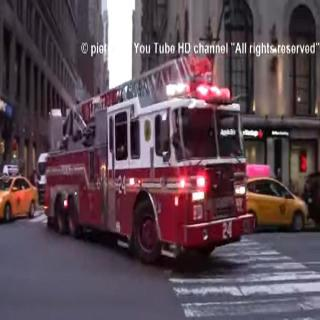Fire_truck: (41, 52, 255, 264)
